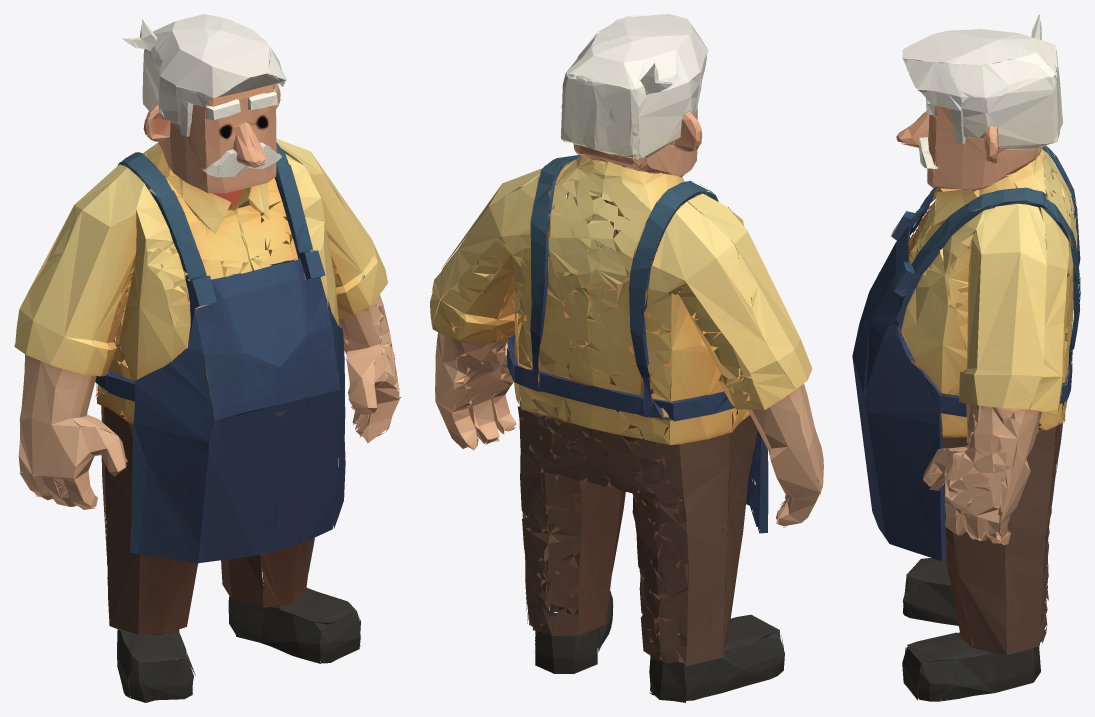
File: habitant.glb
The picture shows the model from 3 angles, left to right: view 1: azimuth 30°, elevation 25°; view 2: azimuth 150°, elevation 25°; view 3: azimuth 270°, elevation 25°; orthographic projection. The views are drawn at different scales.
Visible parts, largest first — view 1: world; view 2: world; view 3: world.
Part boxes in pixels (x1=…): world: x1=14, y1=14, x2=400, y2=702; world: x1=430, y1=14, x2=823, y2=702; world: x1=852, y1=14, x2=1080, y2=701.
Size of the model in its own units: 0.6351 by 1 by 0.3385.
1 material, 1 textured.
